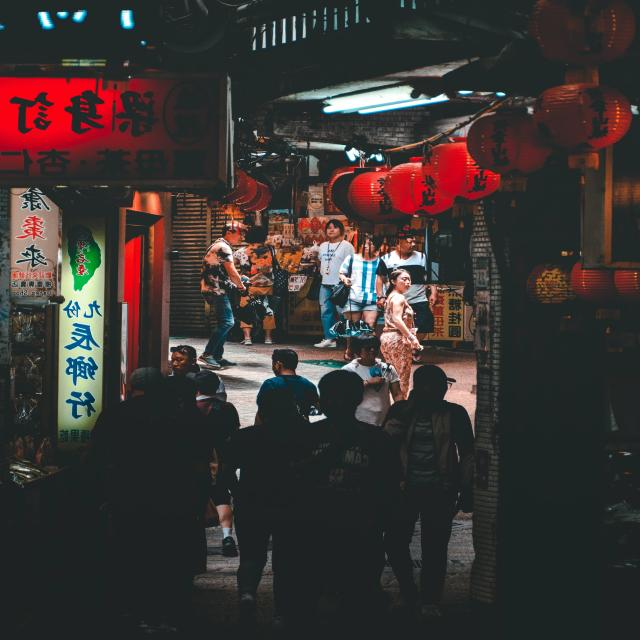adult: (281, 368, 398, 597), (382, 362, 475, 595), (193, 371, 243, 552), (193, 220, 247, 373), (339, 329, 404, 427), (377, 269, 422, 400), (312, 218, 355, 354), (378, 231, 434, 335), (339, 236, 388, 329), (165, 345, 227, 399)
